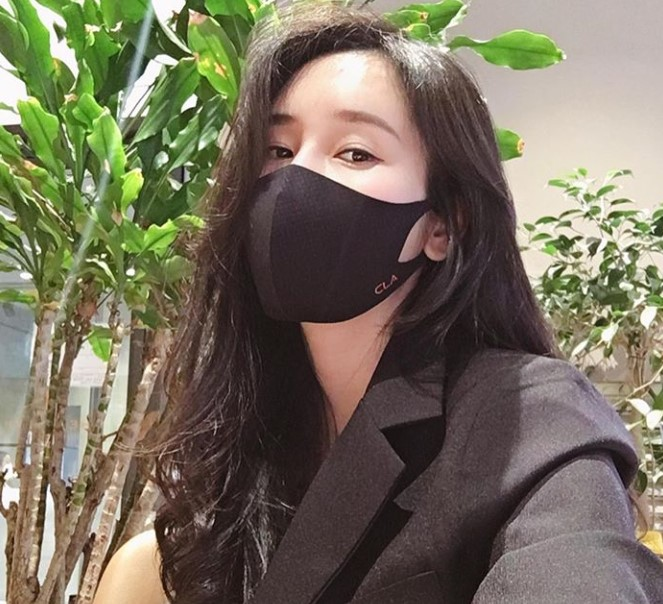face_with_mask: (233, 38, 464, 331)
